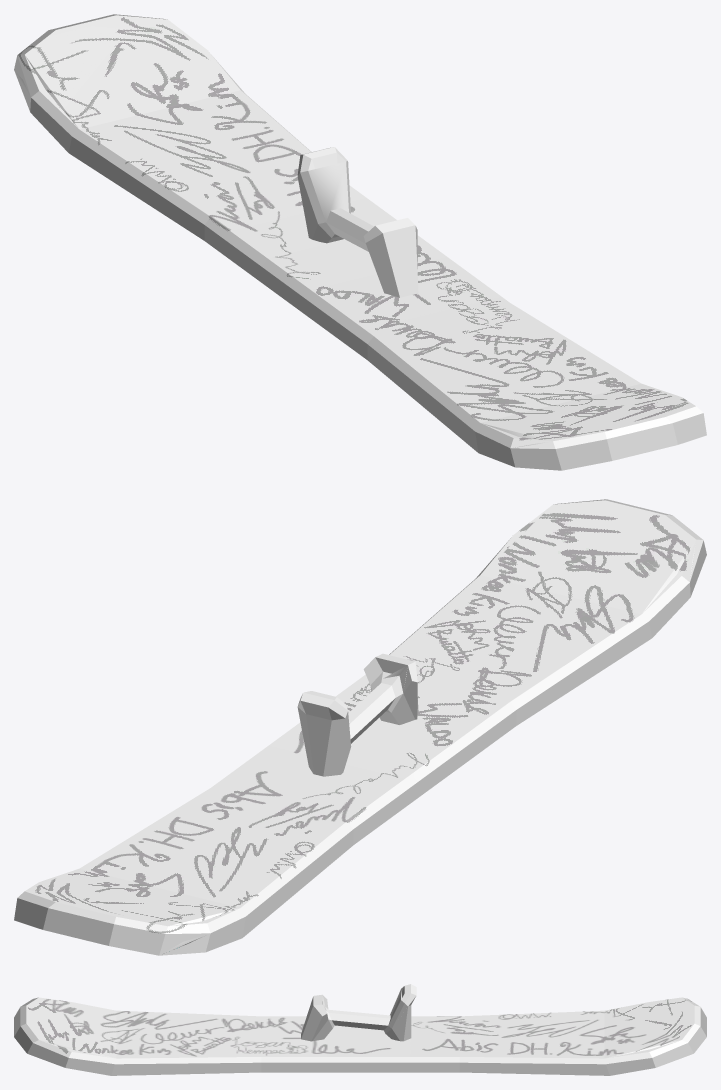
Rendered from item_snowboard_auto.glb.
3 views of the same model, one above another, from view 1: azimuth 30°, elevation 25°; view 2: azimuth 150°, elevation 25°; view 3: azimuth 270°, elevation 25° (orthographic). The views are drawn at different scales.
Parts seen in each view (by area): view 1: Snowboard; view 2: Snowboard; view 3: Snowboard.
Boxes of the visible parts, x1,y1,x2,y2 form: Snowboard: [14, 14, 706, 470]; Snowboard: [14, 499, 706, 955]; Snowboard: [14, 984, 706, 1075].
Size of the model in its own units: 0.3666 by 0.198 by 2.01.
Materials: 1 (1 with a texture image).
